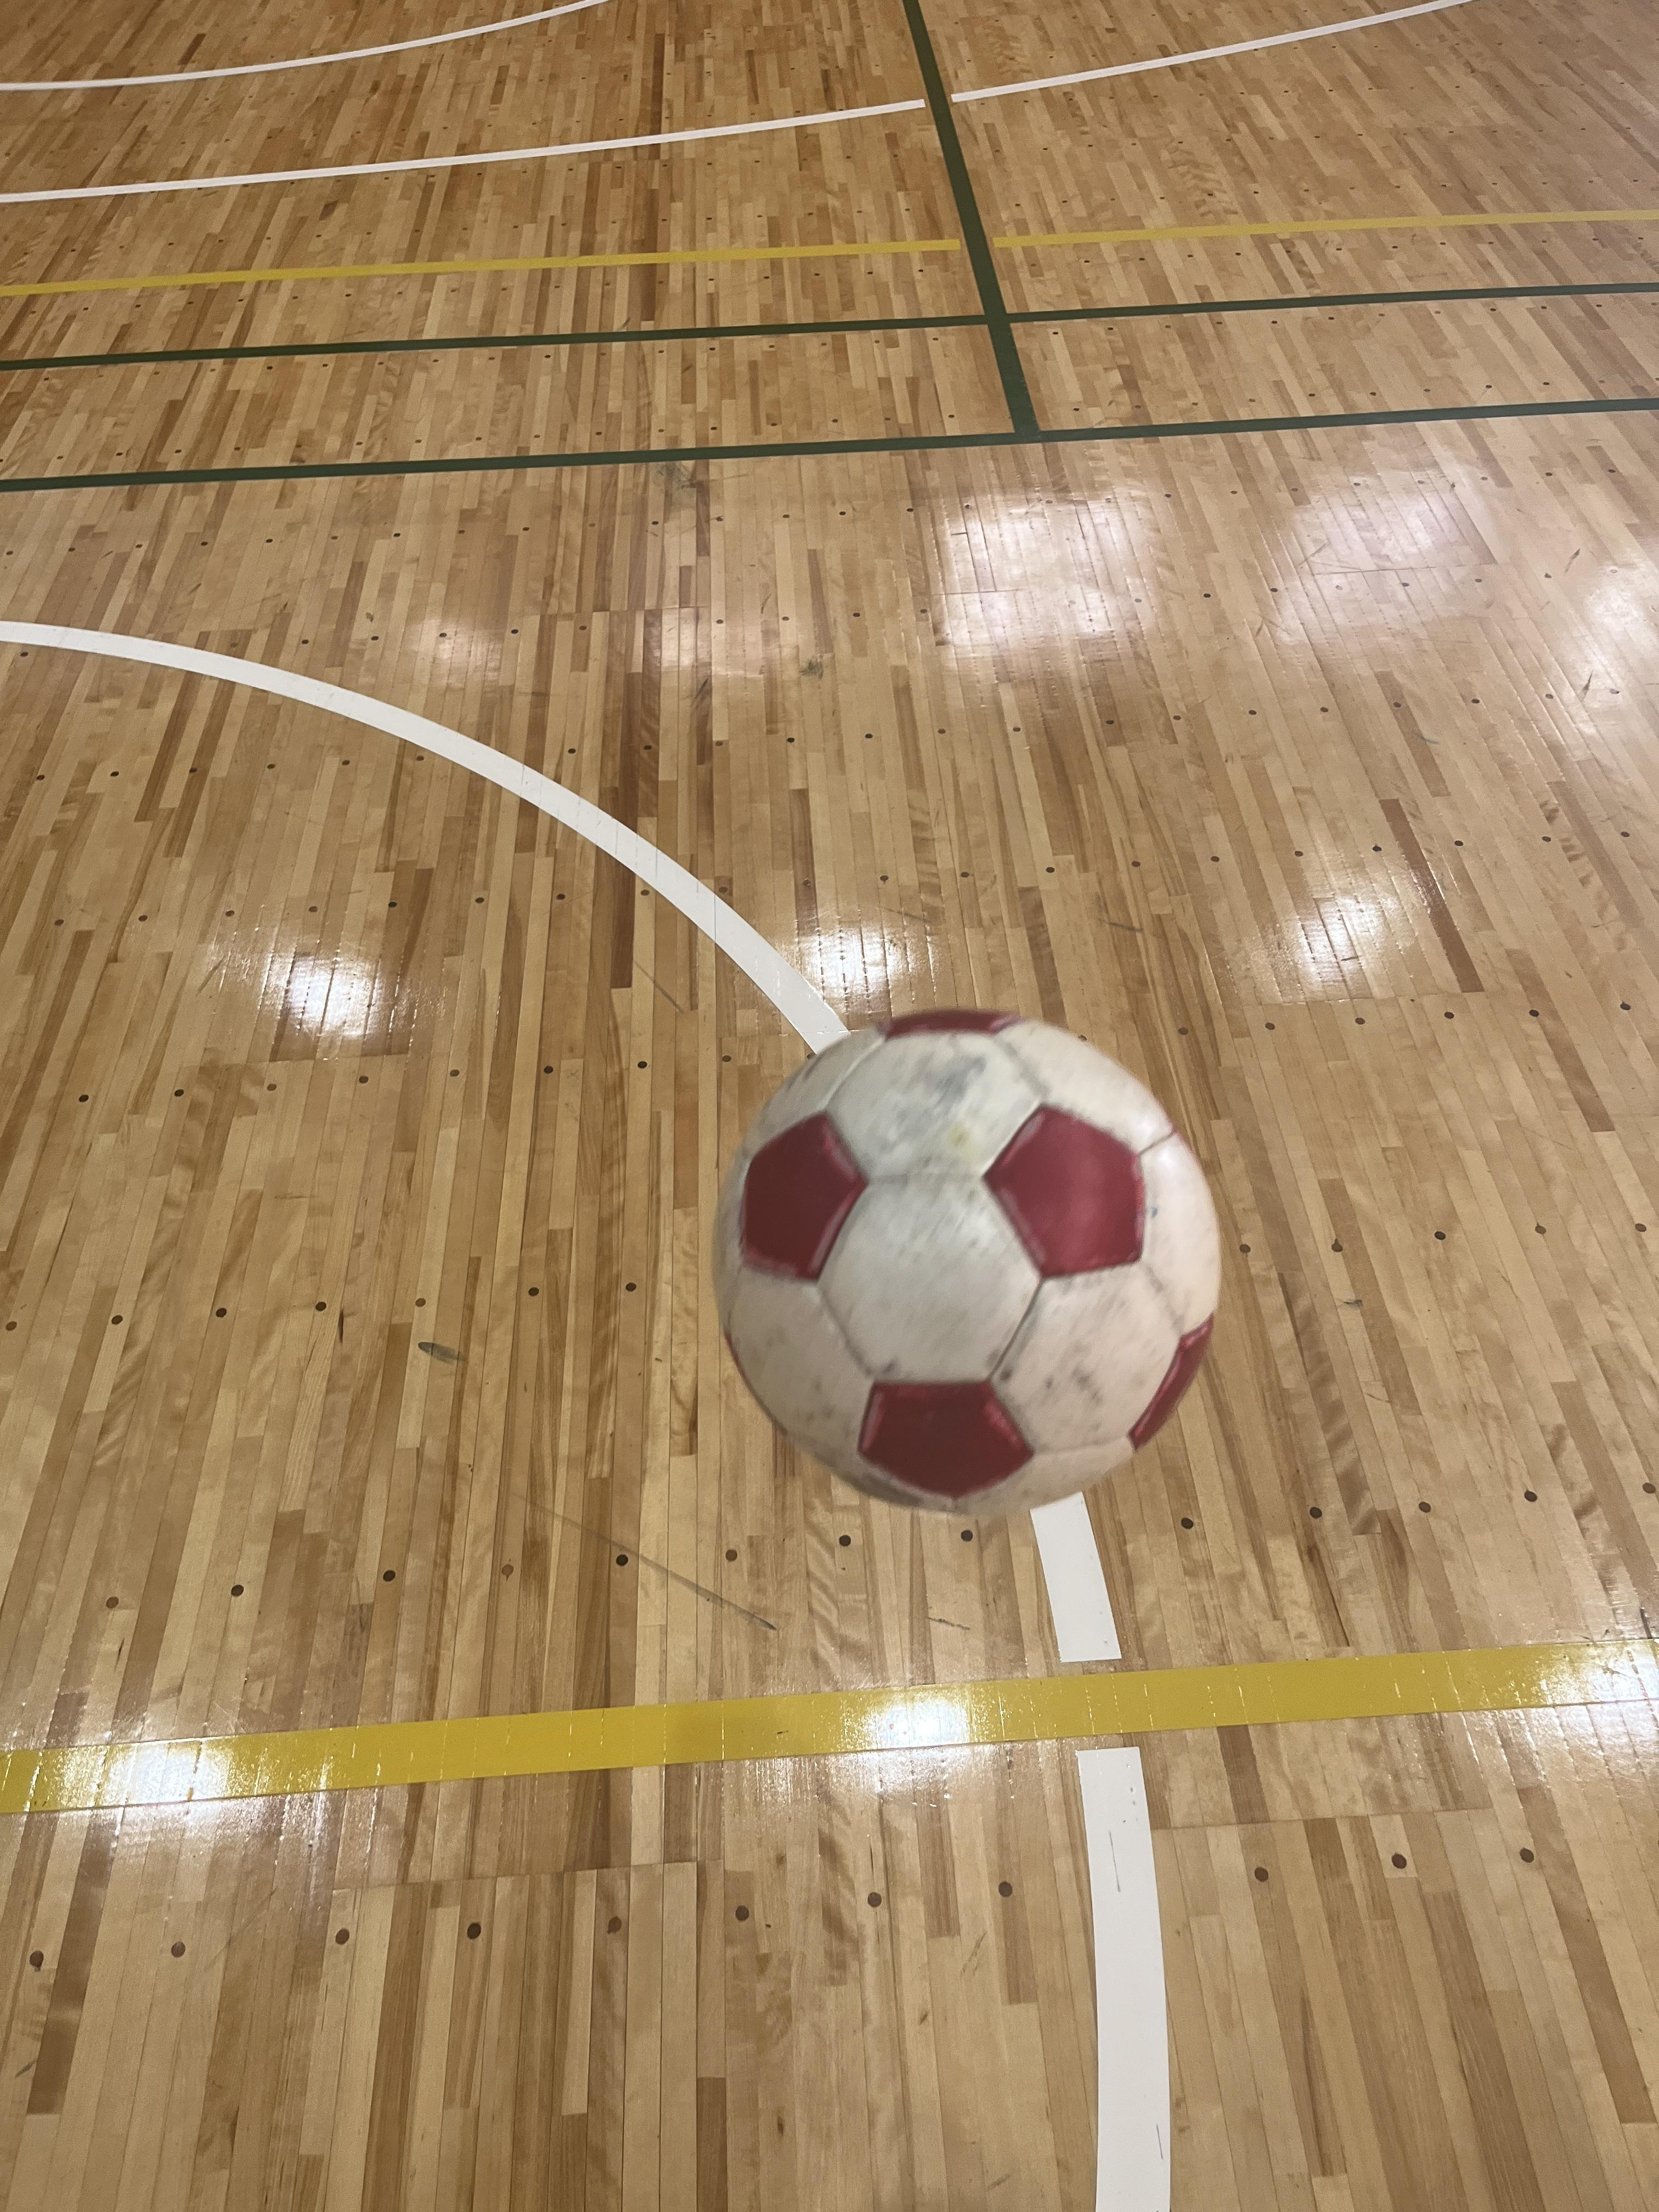Sports-Ball: (708, 1001, 1234, 1527)
